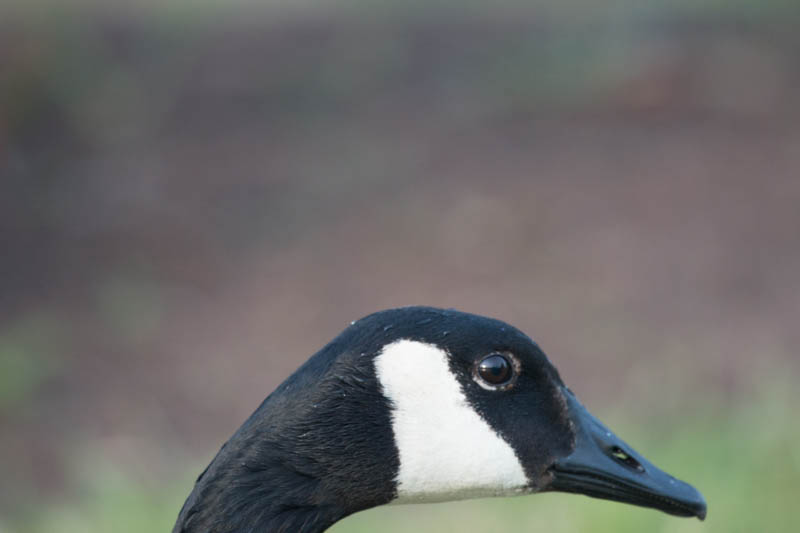goose-head: (315, 308, 708, 520)
